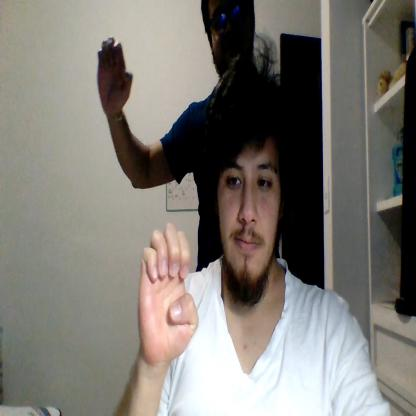E: (138, 223, 199, 366), (97, 37, 133, 116)
